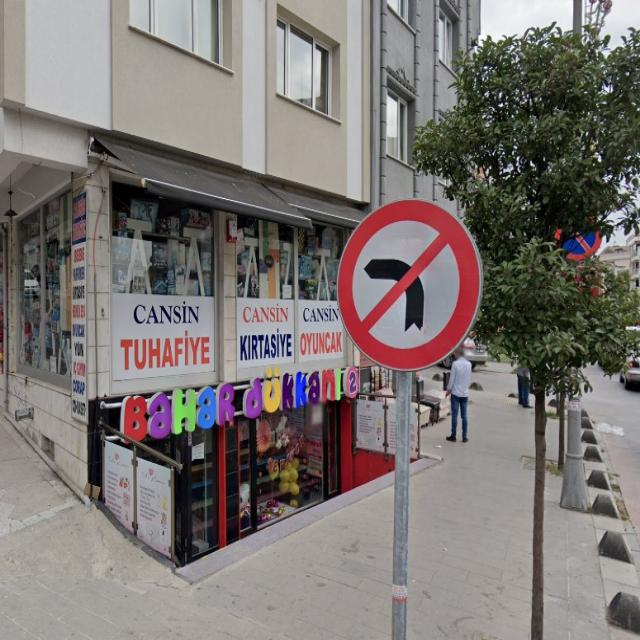parkyasak: (555, 214, 604, 261)
soladonulmez: (336, 199, 482, 367)
